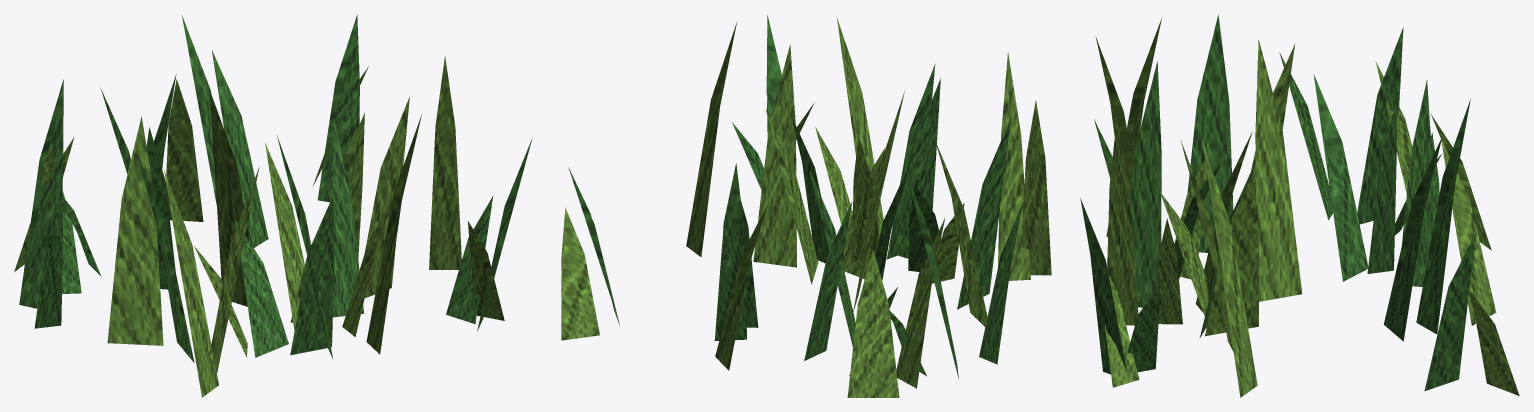
The model's file is SM_Woodland_Grass.fbx.
3 views of the same model, side by side, from view 1: azimuth 30°, elevation 25°; view 2: azimuth 150°, elevation 25°; view 3: azimuth 270°, elevation 25° (orthographic). The views are drawn at different scales.
Parts seen in each view (by area): view 1: SM_Woodland_Grass; view 2: SM_Woodland_Grass; view 3: SM_Woodland_Grass.
Boxes of the visible parts, box(x1,y1,x2,y2) form: SM_Woodland_Grass: box(14, 15, 532, 397); SM_Woodland_Grass: box(561, 15, 1051, 397); SM_Woodland_Grass: box(1080, 14, 1519, 397).
Size of the model in its own units: 86 by 80.47 by 48.75.
Materials: 1 (1 with a texture image).
